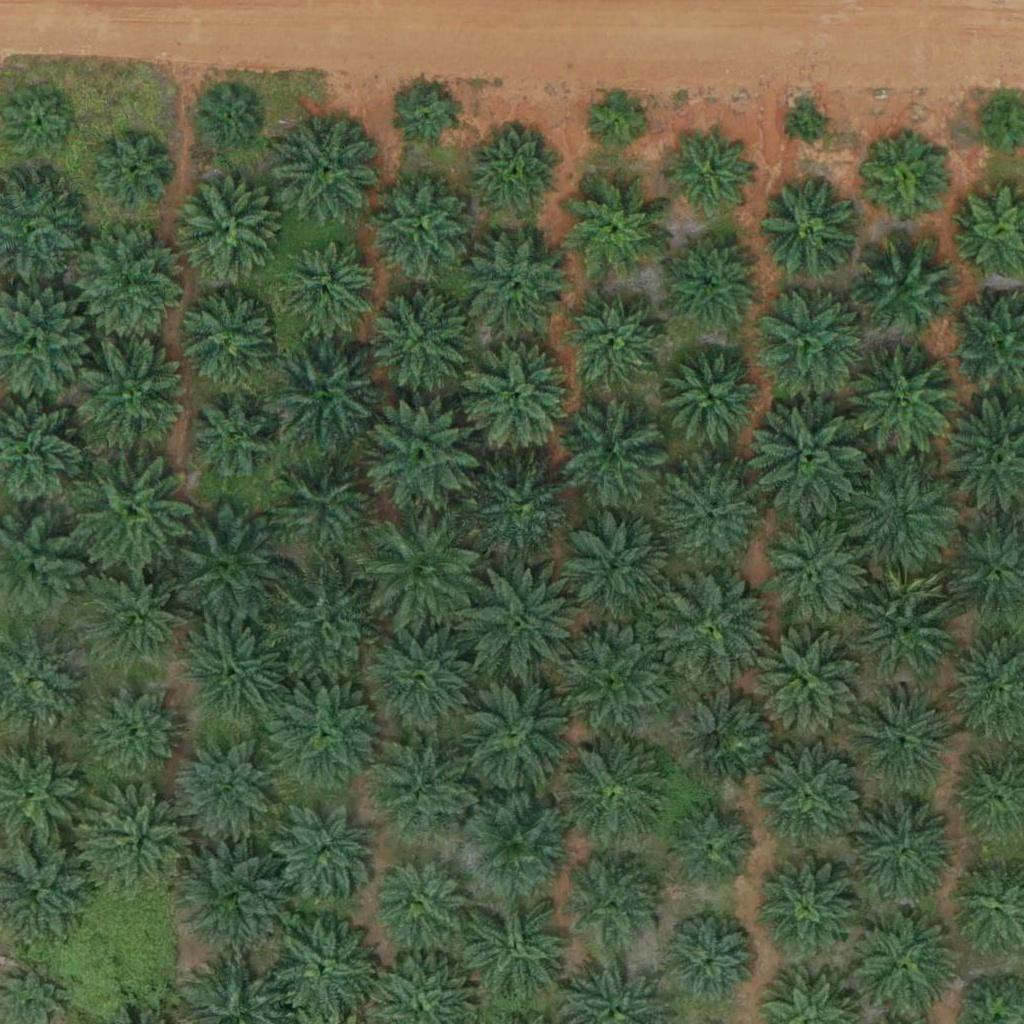Kelapa_Sawit: (70, 334, 195, 460), (69, 449, 194, 575), (165, 505, 290, 631), (261, 325, 386, 451), (260, 444, 385, 570), (260, 560, 385, 686), (361, 394, 486, 520), (359, 512, 484, 638), (456, 560, 581, 686), (744, 398, 869, 524), (837, 455, 962, 581), (452, 674, 577, 800), (359, 614, 484, 740), (262, 671, 387, 797), (457, 337, 582, 462), (647, 568, 772, 693), (554, 617, 679, 742), (554, 730, 679, 855), (847, 346, 960, 460), (180, 835, 293, 949), (73, 227, 186, 340), (852, 796, 965, 909), (849, 909, 962, 1022), (459, 896, 572, 1009), (83, 790, 196, 903), (81, 562, 193, 676), (267, 802, 379, 916), (268, 909, 380, 1023), (753, 281, 865, 394), (756, 517, 868, 630), (846, 566, 958, 679), (848, 679, 960, 792), (178, 177, 278, 278), (177, 292, 277, 393), (280, 118, 380, 219), (274, 239, 374, 340), (371, 175, 471, 276), (371, 287, 471, 388), (466, 232, 566, 333), (474, 459, 574, 560), (568, 179, 668, 280), (563, 294, 663, 395), (564, 408, 664, 509), (568, 512, 668, 613), (660, 231, 760, 332), (662, 347, 762, 448), (659, 463, 759, 564), (756, 635, 856, 736), (760, 749, 860, 850), (754, 860, 854, 961), (668, 686, 768, 787), (565, 854, 665, 955), (468, 795, 568, 896), (377, 738, 477, 839), (184, 388, 284, 488), (760, 176, 860, 276), (855, 234, 955, 334), (183, 619, 283, 719), (174, 740, 274, 840), (81, 686, 181, 786), (665, 806, 753, 895), (665, 131, 753, 219), (662, 918, 750, 1006), (477, 128, 564, 216), (864, 140, 951, 228), (378, 859, 465, 947), (97, 133, 172, 208), (198, 87, 261, 150), (398, 85, 460, 148), (584, 86, 646, 149), (791, 106, 828, 144)
